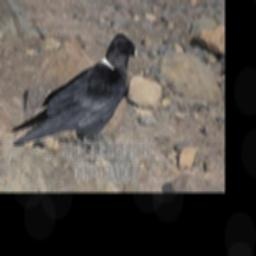Crow: (9, 33, 140, 168)
